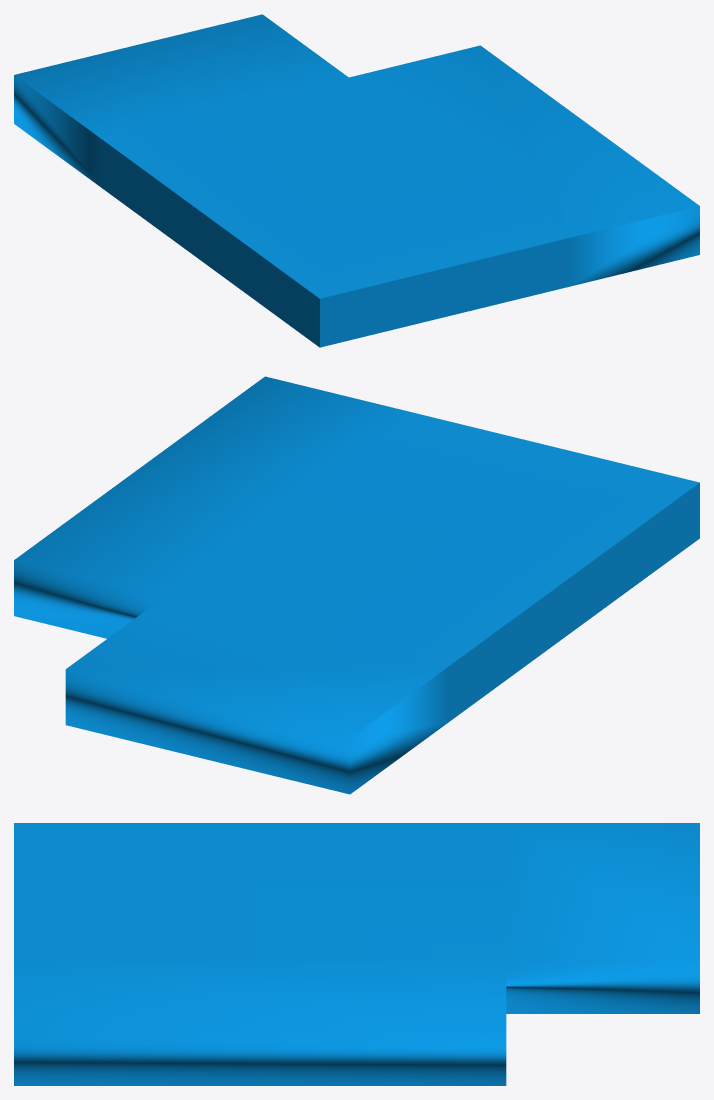
The model's file is Jigsaw_Color_01.fbx.
3 renders of one model, top to bottom at view 1: azimuth 30°, elevation 25°; view 2: azimuth 150°, elevation 25°; view 3: azimuth 270°, elevation 25°, orthographic. The views are drawn at different scales.
Parts seen in each view (by area): view 1: Jigsaw_Color_01; view 2: Jigsaw_Color_01; view 3: Jigsaw_Color_01.
Part boxes in pixels (bbox=[...]): Jigsaw_Color_01: bbox=[14, 14, 699, 347]; Jigsaw_Color_01: bbox=[14, 376, 699, 794]; Jigsaw_Color_01: bbox=[14, 823, 699, 1085].
Size of the model in its own units: 16.35 by 2.01 by 22.78.
